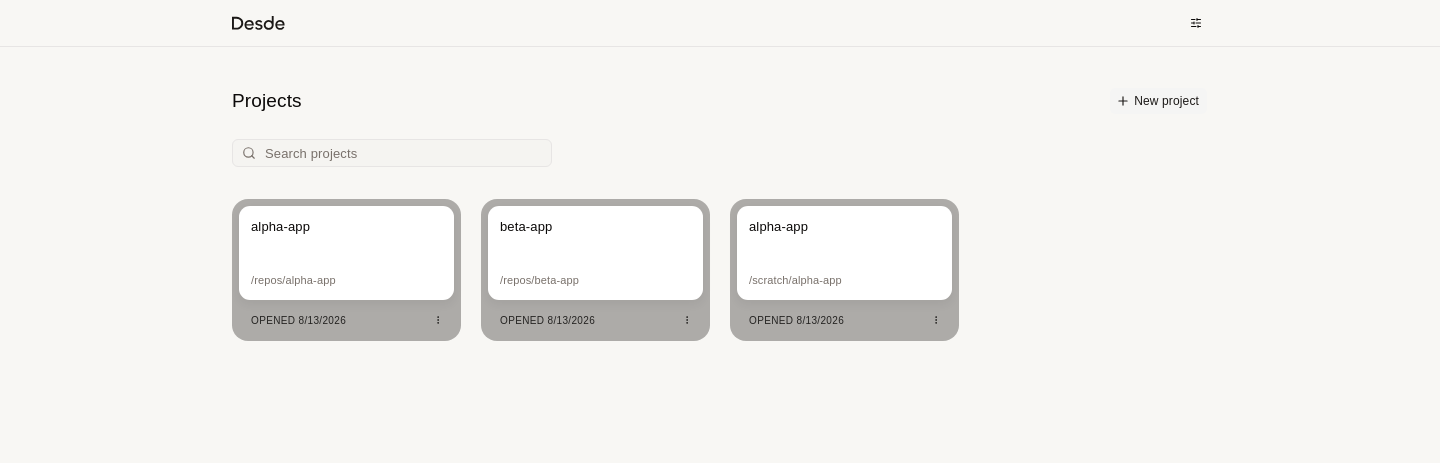
Scenario: project search › shows a no-match state that is not the create-a-project state
Expected: the button with test id "launcher-project-beta-app" is shown, [487,205,704,301]
Type "zzzz" into the search field with test id "launcher-search". click: [392, 153]
box: [232,139,552,167]
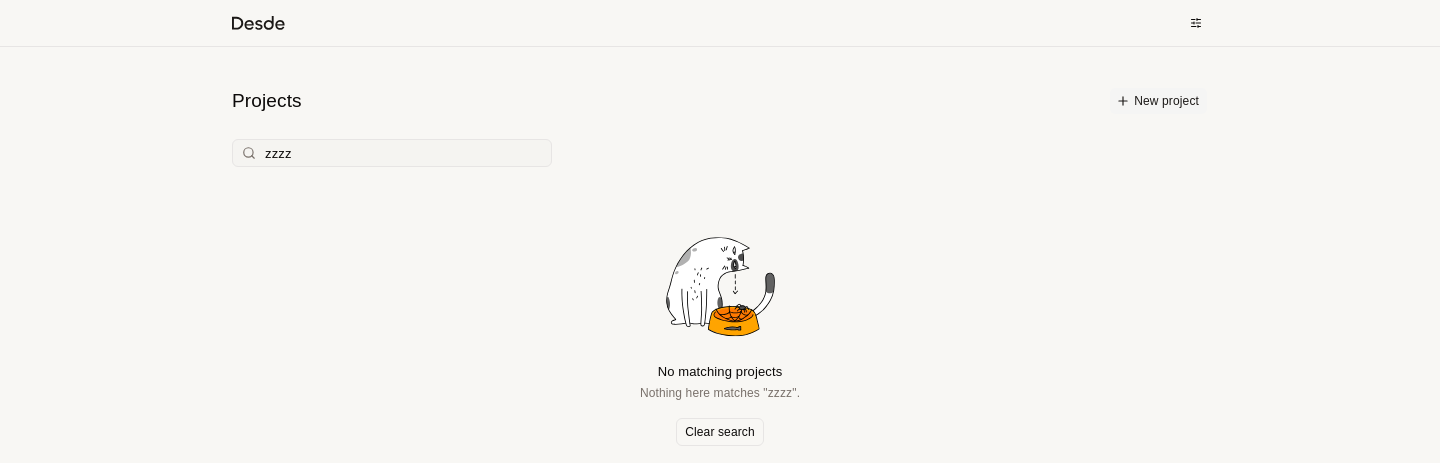
Expected: the text "No matching projects" is shown, [658,363,782,381]
Click the button "Clear search". click: [720, 432]
box: [676,418,764,446]
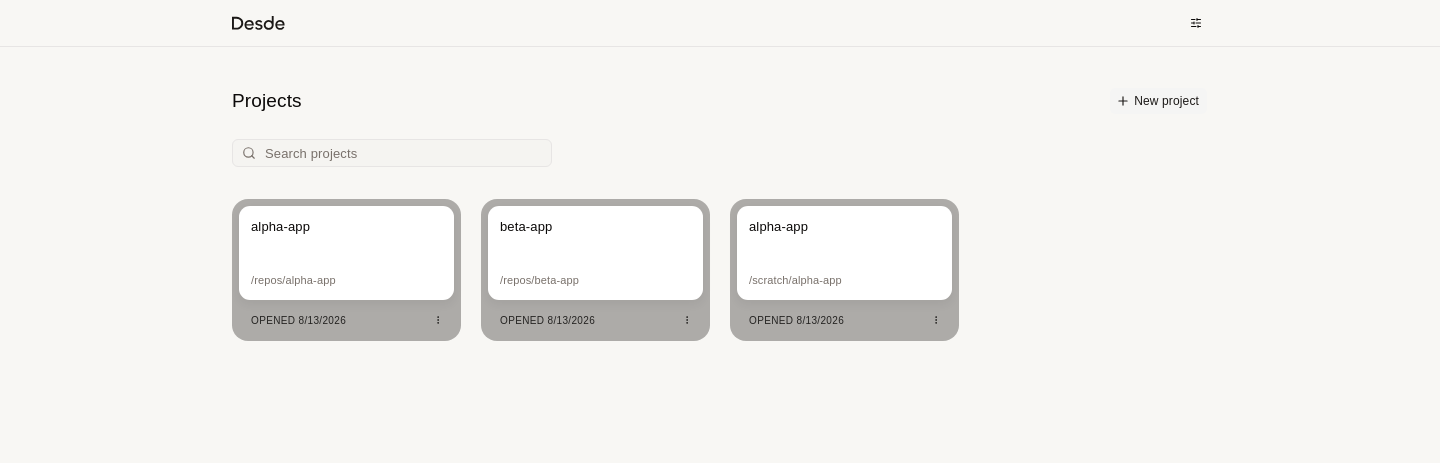
Expected: the button with test id "launcher-project-beta-app" is shown, [487,205,704,301]
